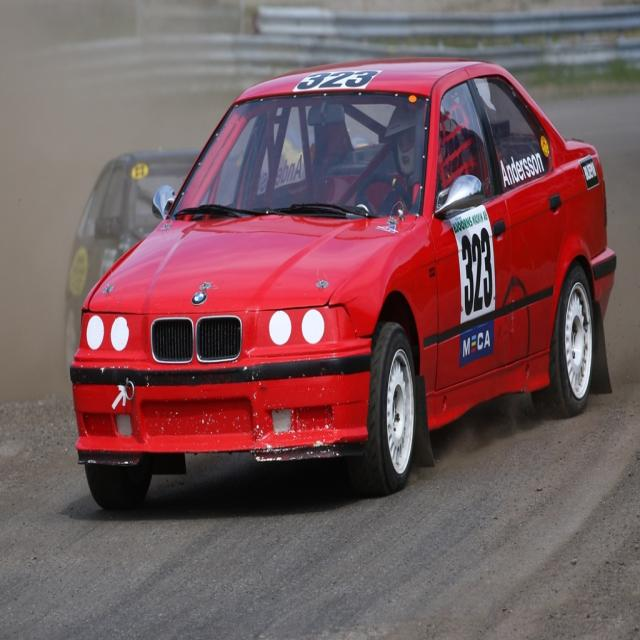car: (68, 55, 616, 510)
